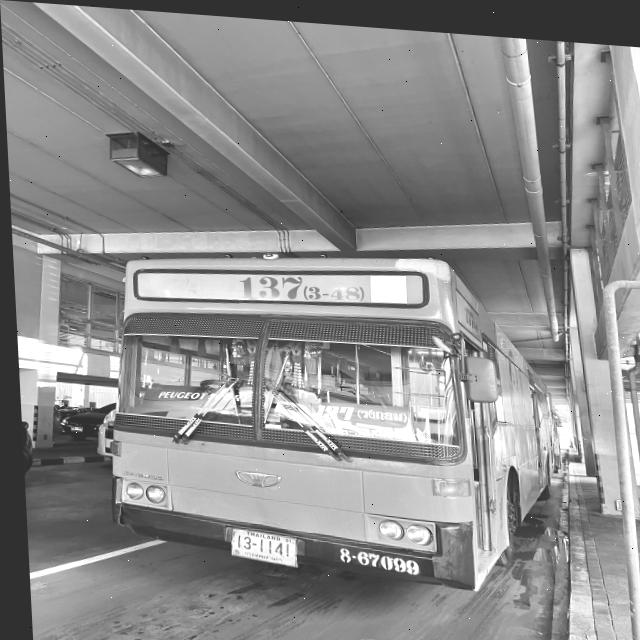BMTA-bus: (98, 252, 552, 584)
Bus Line Number: (233, 265, 365, 305)
Bus Side Number: (329, 543, 417, 571)
Destination Sign: (305, 396, 413, 435)
